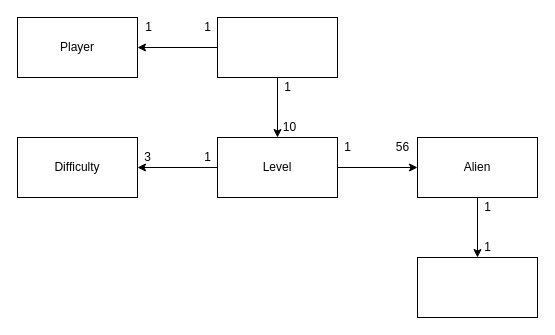
This 555x335 diagram has some shape labels left out. The shapes that lost their labels are listed below. From the top down, each one's centre as x and y in pixels, then its label:
(277,47): Game
(477,287): Bonus
